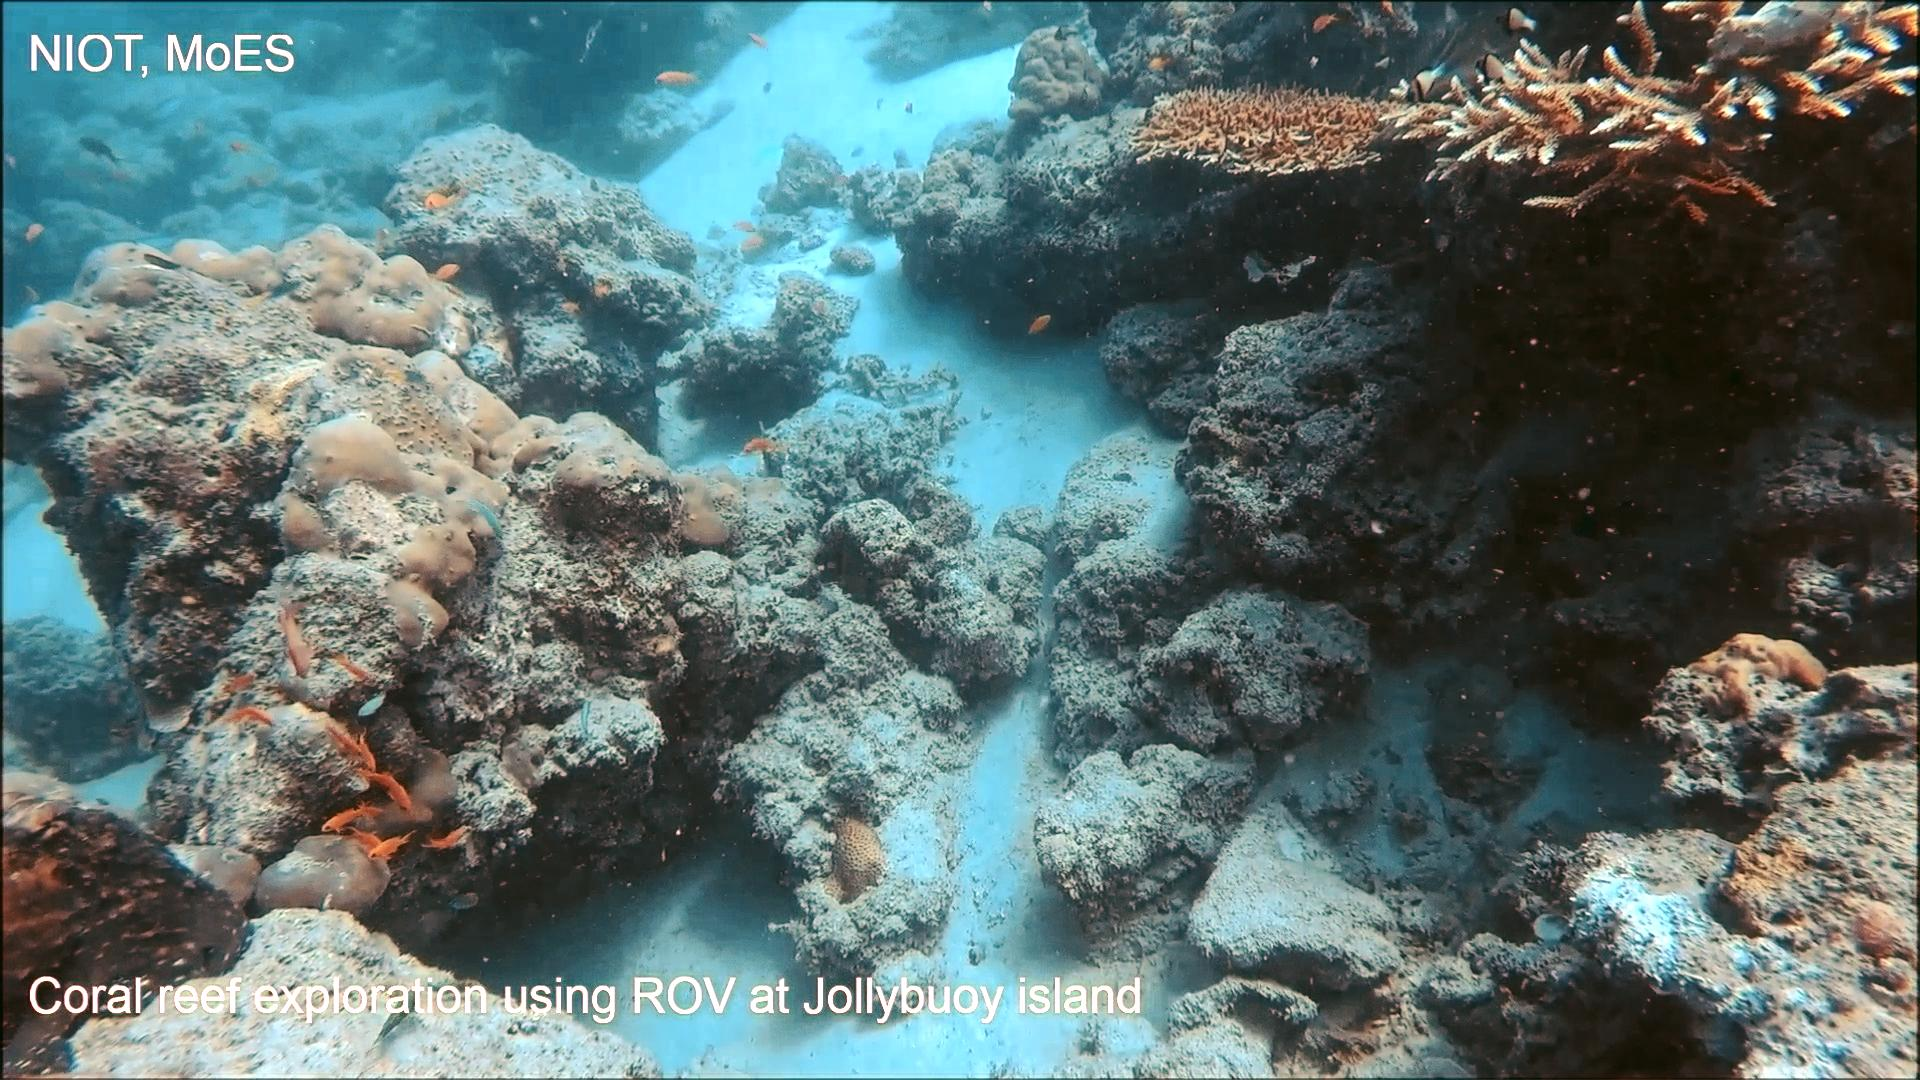Porites-Porites pukoensis: (255, 223, 553, 657)
